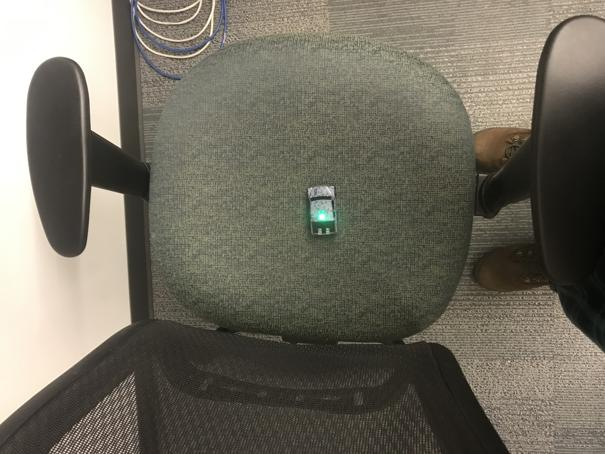MXT: (306, 184, 340, 237)
